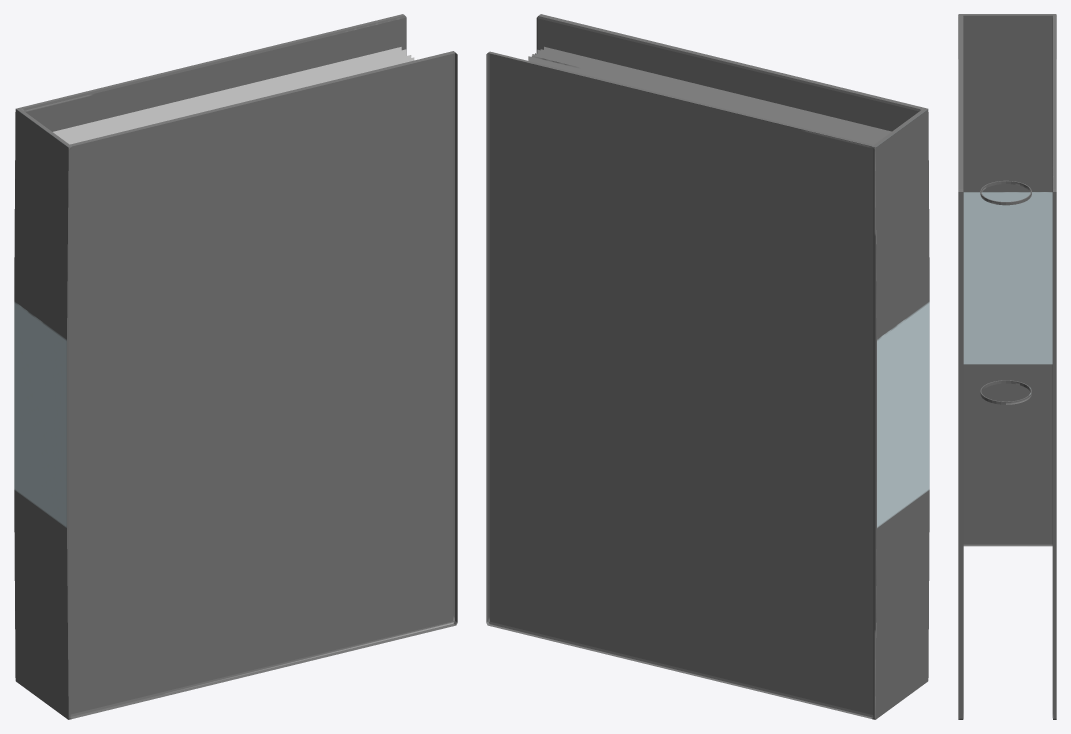
Rendered from grayfile.fbx.
3 renders of one model, left to right at view 1: azimuth 30°, elevation 25°; view 2: azimuth 150°, elevation 25°; view 3: azimuth 270°, elevation 25°, orthographic. The views are drawn at different scales.
Visible parts, largest first — view 1: 円.002; view 2: 円.002; view 3: 円.002.
Part boxes in pixels (x1,y1,x2,y2): 円.002: [14, 14, 457, 719]; 円.002: [486, 14, 929, 719]; 円.002: [958, 14, 1056, 719].
Size of the model in its own units: 21.2 by 29.7 by 5.
